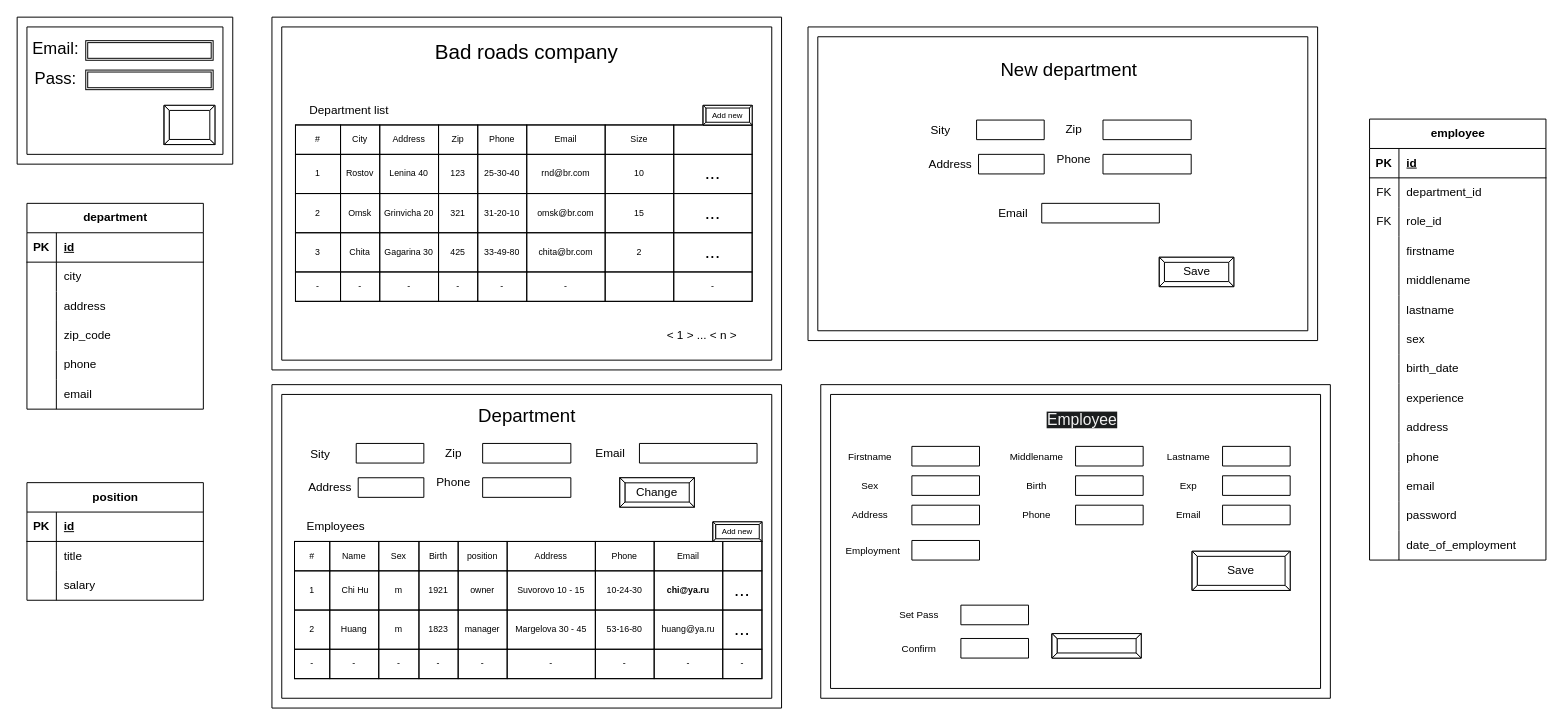
Some shapes in this 1563 by 725 pixel diagram are drawn without their labels. The shapes that lost their labels are listed below. From the top down, each one's centre as x and y in pixels, then its label:
the point at 189,124: Log In
the point at 1096,645: Save Pass
